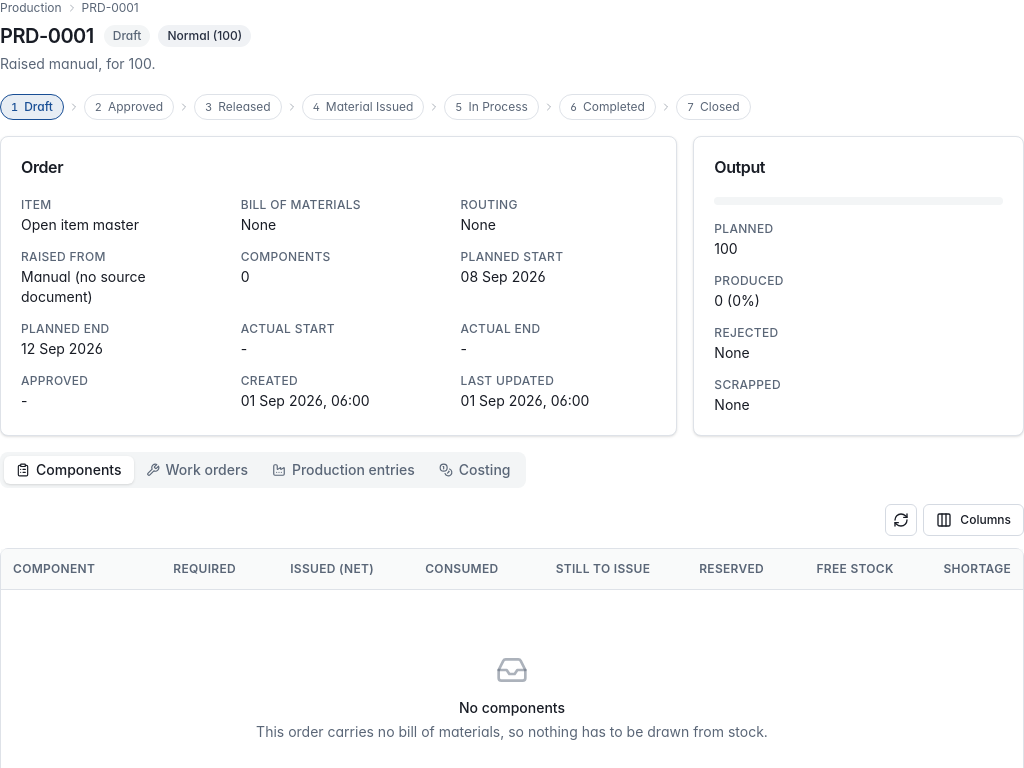
production costing › renders the material and operation cost breakdowns
Click the tab "Costing" at (475, 470), box [427,456,522,484]
(page scrolled)
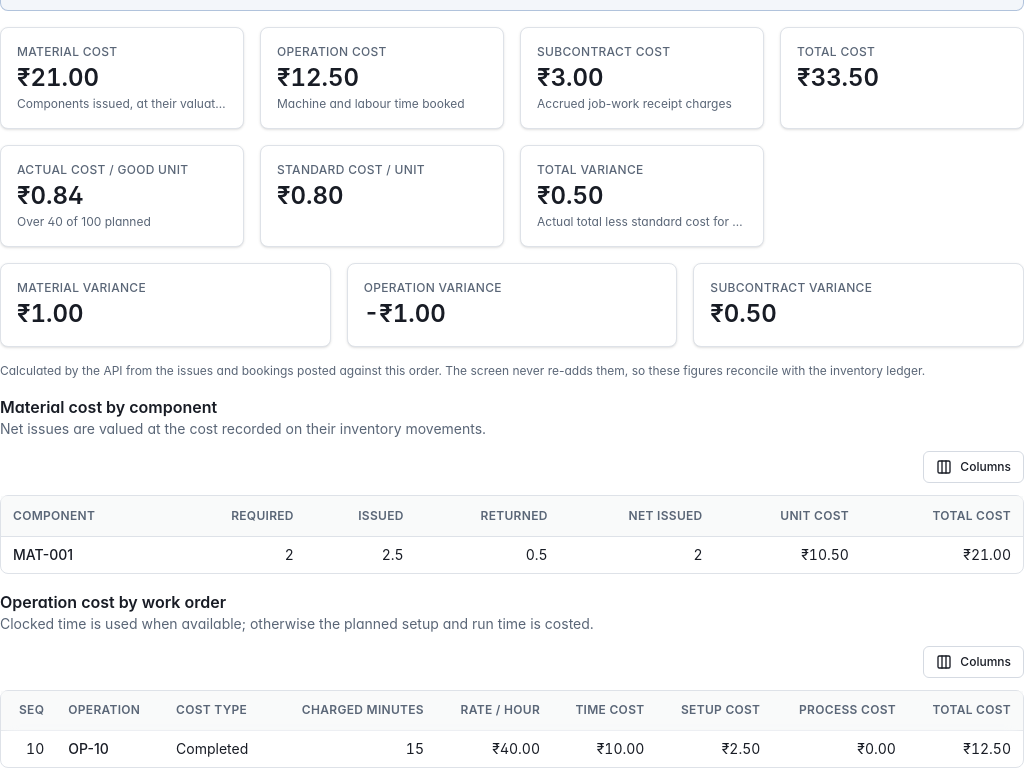
Check: the heading "Material cost by component" is shown, box [0,397,217,417]
Check: the text "MAT-001" is shown, box [13,546,73,562]
Check: the text "2.5" is shown, box [306,536,416,572]
